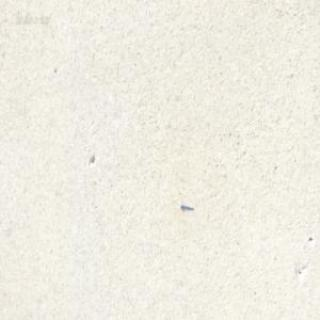Nailtrack_idkeyframe: (180, 202, 193, 210)
